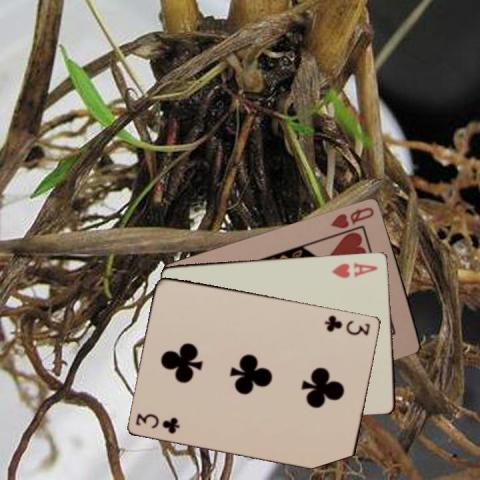3c: (322, 312, 372, 337), (133, 410, 181, 435)
Ah: (330, 258, 380, 278)
Qh: (328, 204, 376, 230)
